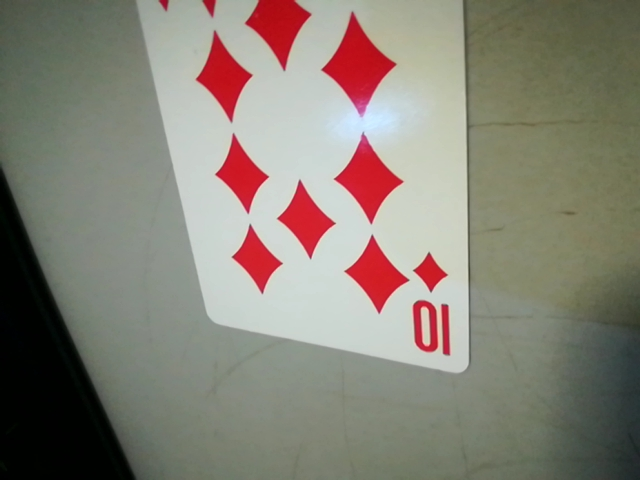fk 10: (402, 243, 463, 367)
